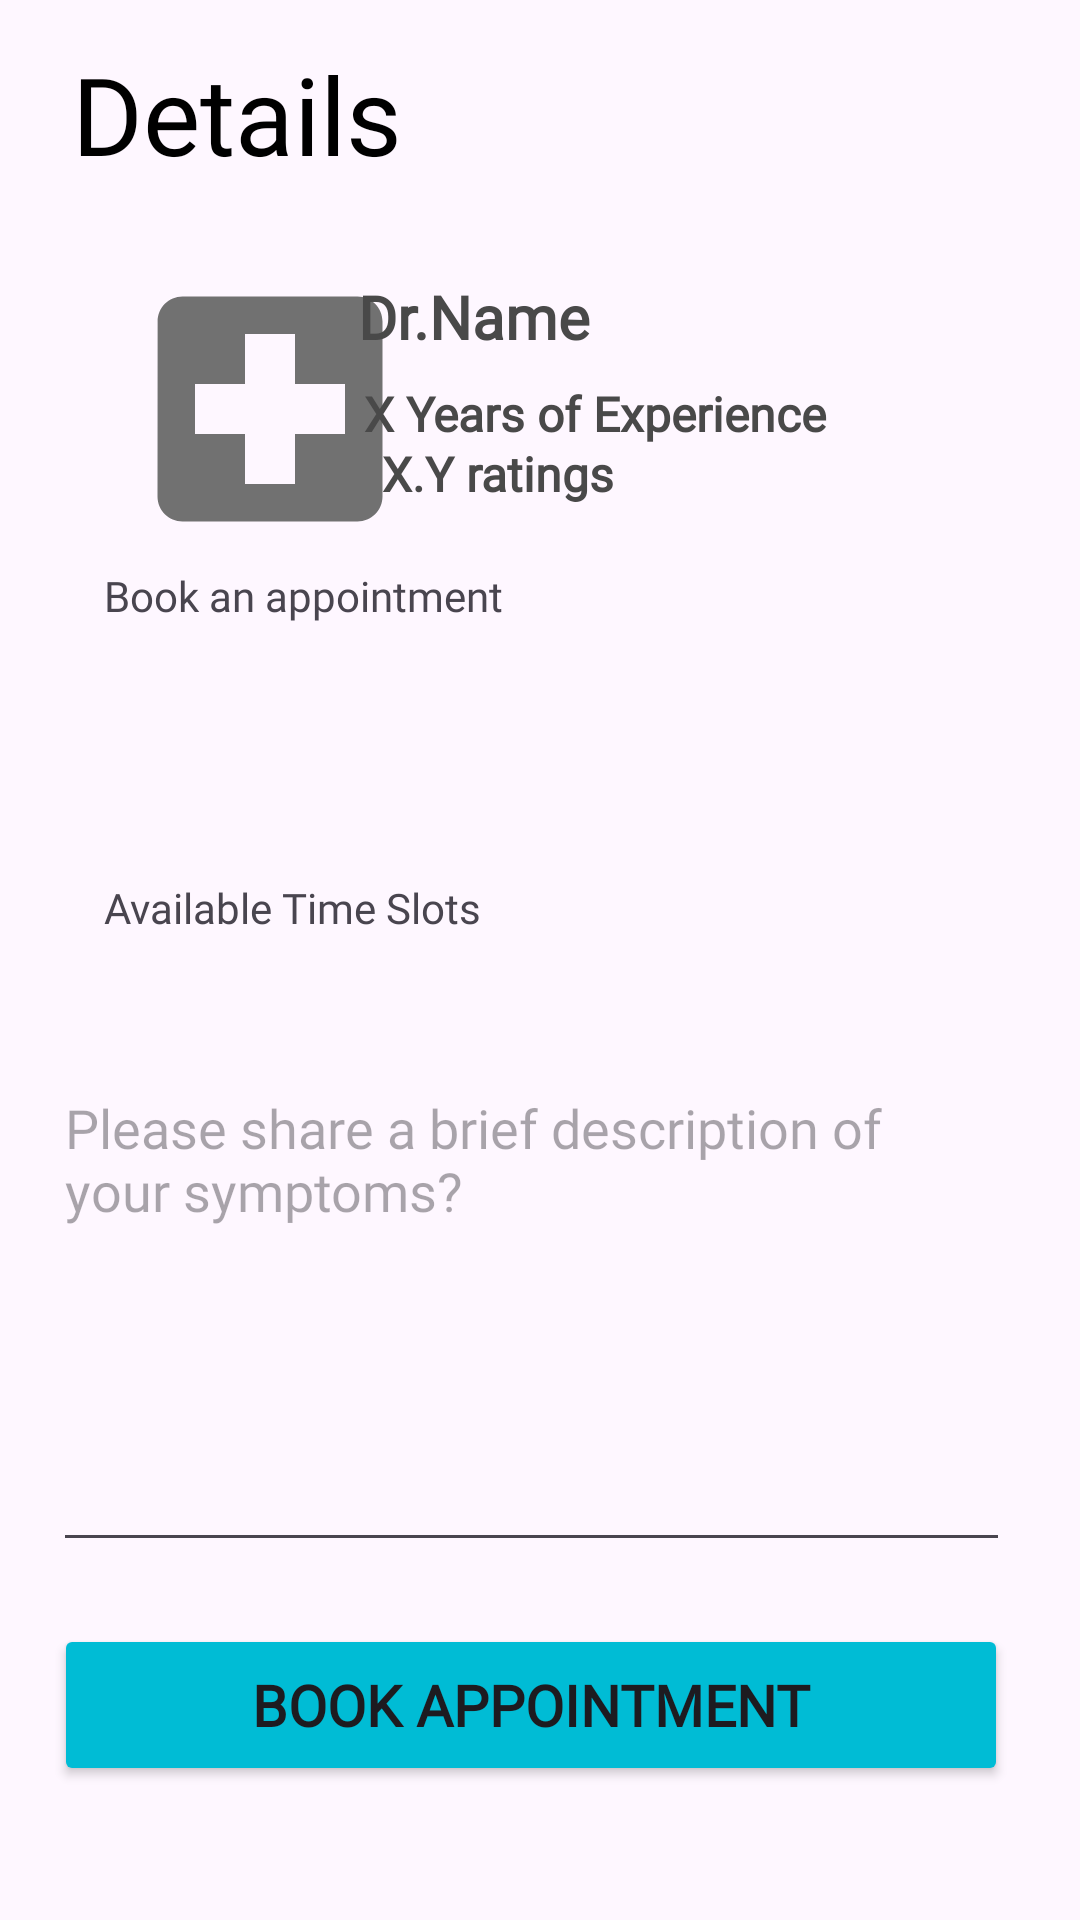

Named icons in this screenshot (1080w x 1920h) and their bounding boxes, (x1, y1, x2, y2):
local hospital: (157, 295, 420, 522)
